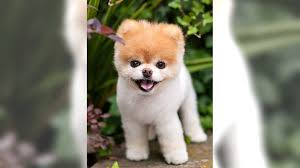dog: (104, 13, 215, 168)
